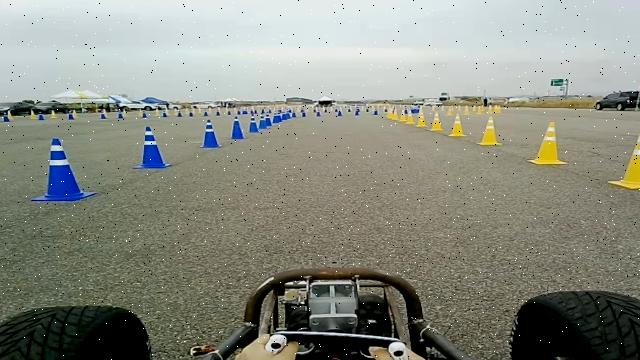blue cone: (30, 137, 97, 202), (132, 126, 172, 169), (199, 118, 221, 148), (227, 116, 246, 139), (246, 116, 260, 133)
yellow cone: (607, 129, 640, 189), (526, 121, 568, 165), (476, 115, 502, 146), (448, 113, 466, 137), (428, 112, 444, 131), (544, 121, 556, 138), (415, 111, 427, 127), (386, 106, 398, 120), (633, 129, 640, 149), (405, 112, 414, 124), (399, 110, 406, 121), (385, 111, 394, 119)
